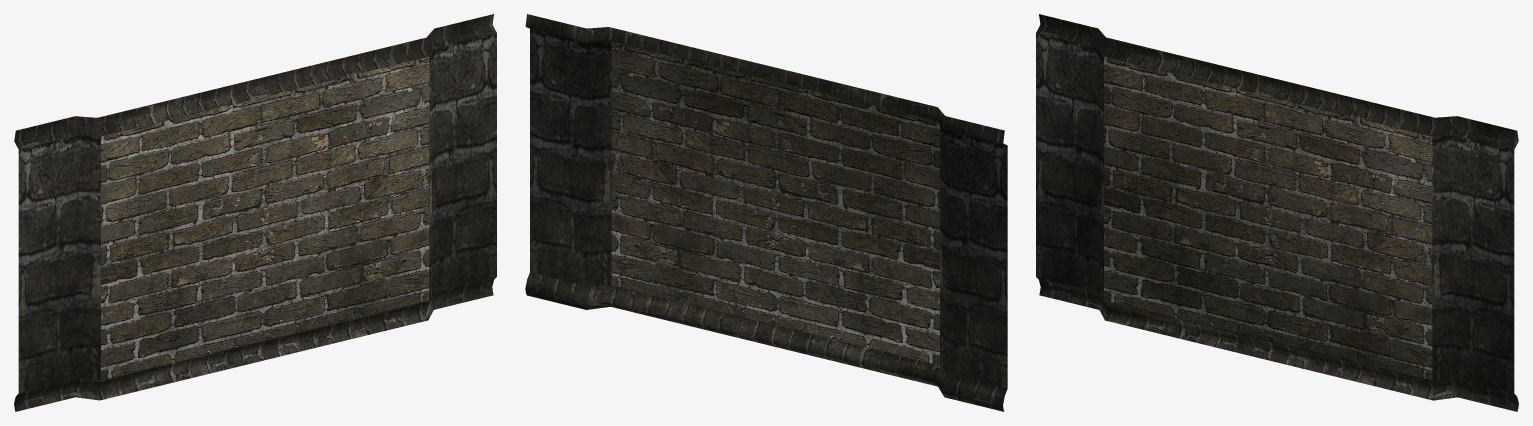
The model's file is courtyard_outside_wall_low.dae.
The picture shows the model from 3 angles, left to right: view 1: azimuth 30°, elevation 25°; view 2: azimuth 150°, elevation 25°; view 3: azimuth 330°, elevation 25°; orthographic projection.
Visible parts, largest first — view 1: pCube17; view 2: pCube17; view 3: pCube17.
Boxes of the visible parts, <box> form: pCube17: <box>14,14,496,411</box>; pCube17: <box>525,14,1007,411</box>; pCube17: <box>1036,14,1518,411</box>.
Bounding box in the file's own units: 4 × 2.25 × 0.1714.
